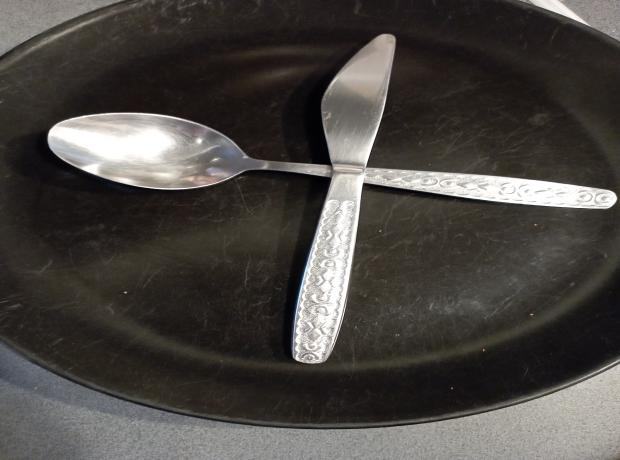metal: (46, 113, 620, 213), (280, 32, 402, 364)
